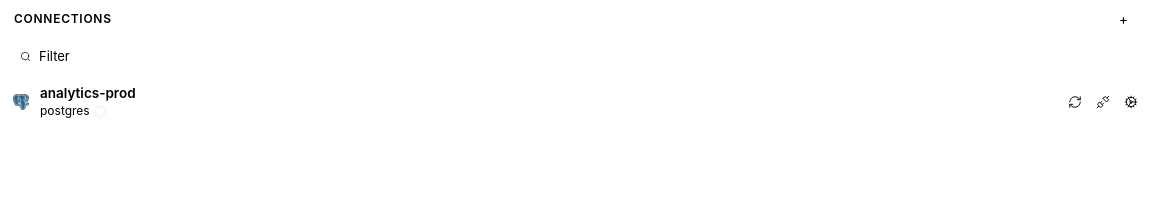
Test: CombinedConnectionsTree › a fresh multi-schema connection selects nothing and renders an empty tree
The image size is (1152, 217).
Step 1. Click the button with test id "expand-toggle-c1" → (88, 93), box [0,78,1151,126]
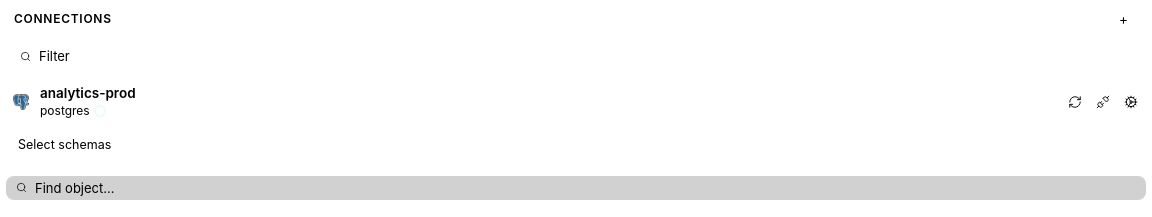
Now the button with test id "schema-select-c1" reads "Select schemas", box [10,132,1142,160]
